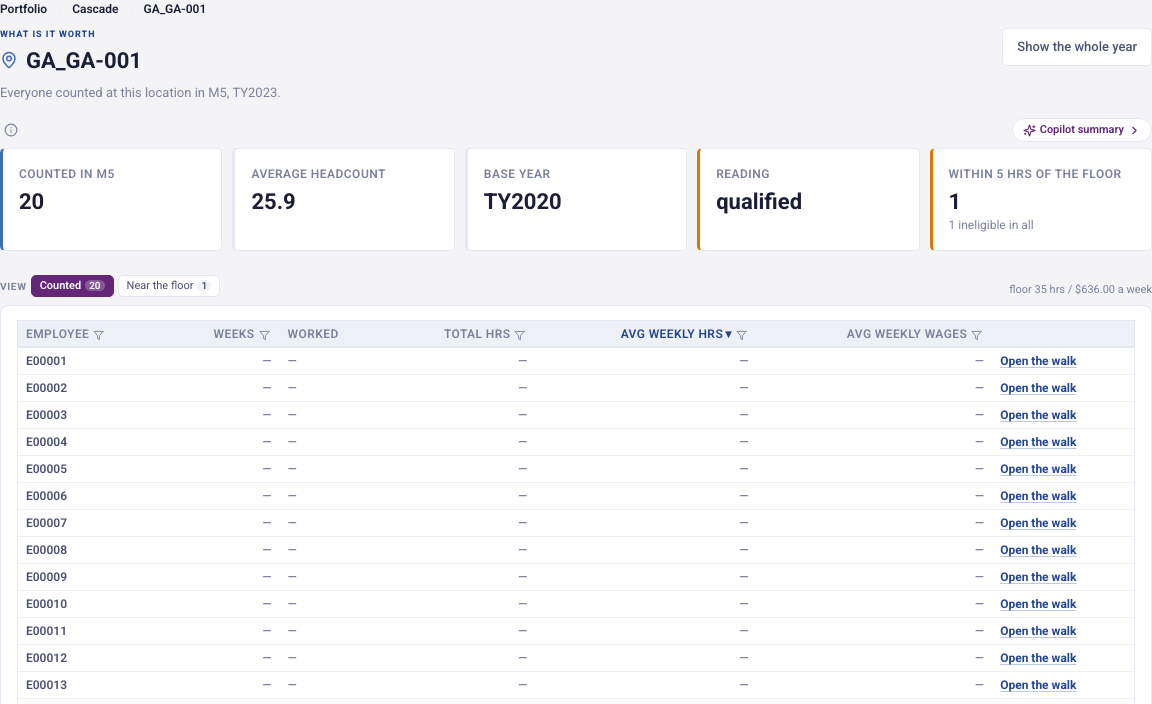
Test case: "how many more hours a week would Sally need to work?" › does not report a shortfall for somebody over the hours floor
Click the tab "Near the floor1" at [169, 286], box 118,275 -> 220,297
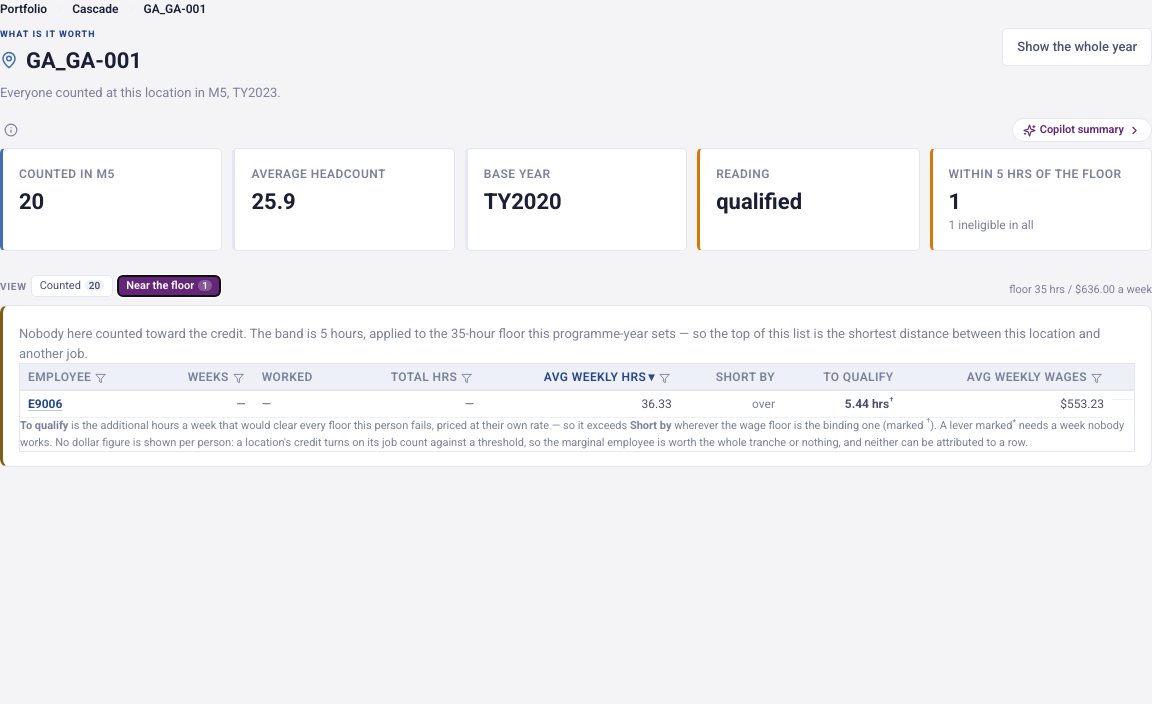
Expected: the cell does not show "-"
Now the cell "over" is shown, box 680,391 -> 783,418
Now the cell "5.44 hrs†" is shown, box 783,391 -> 902,418
